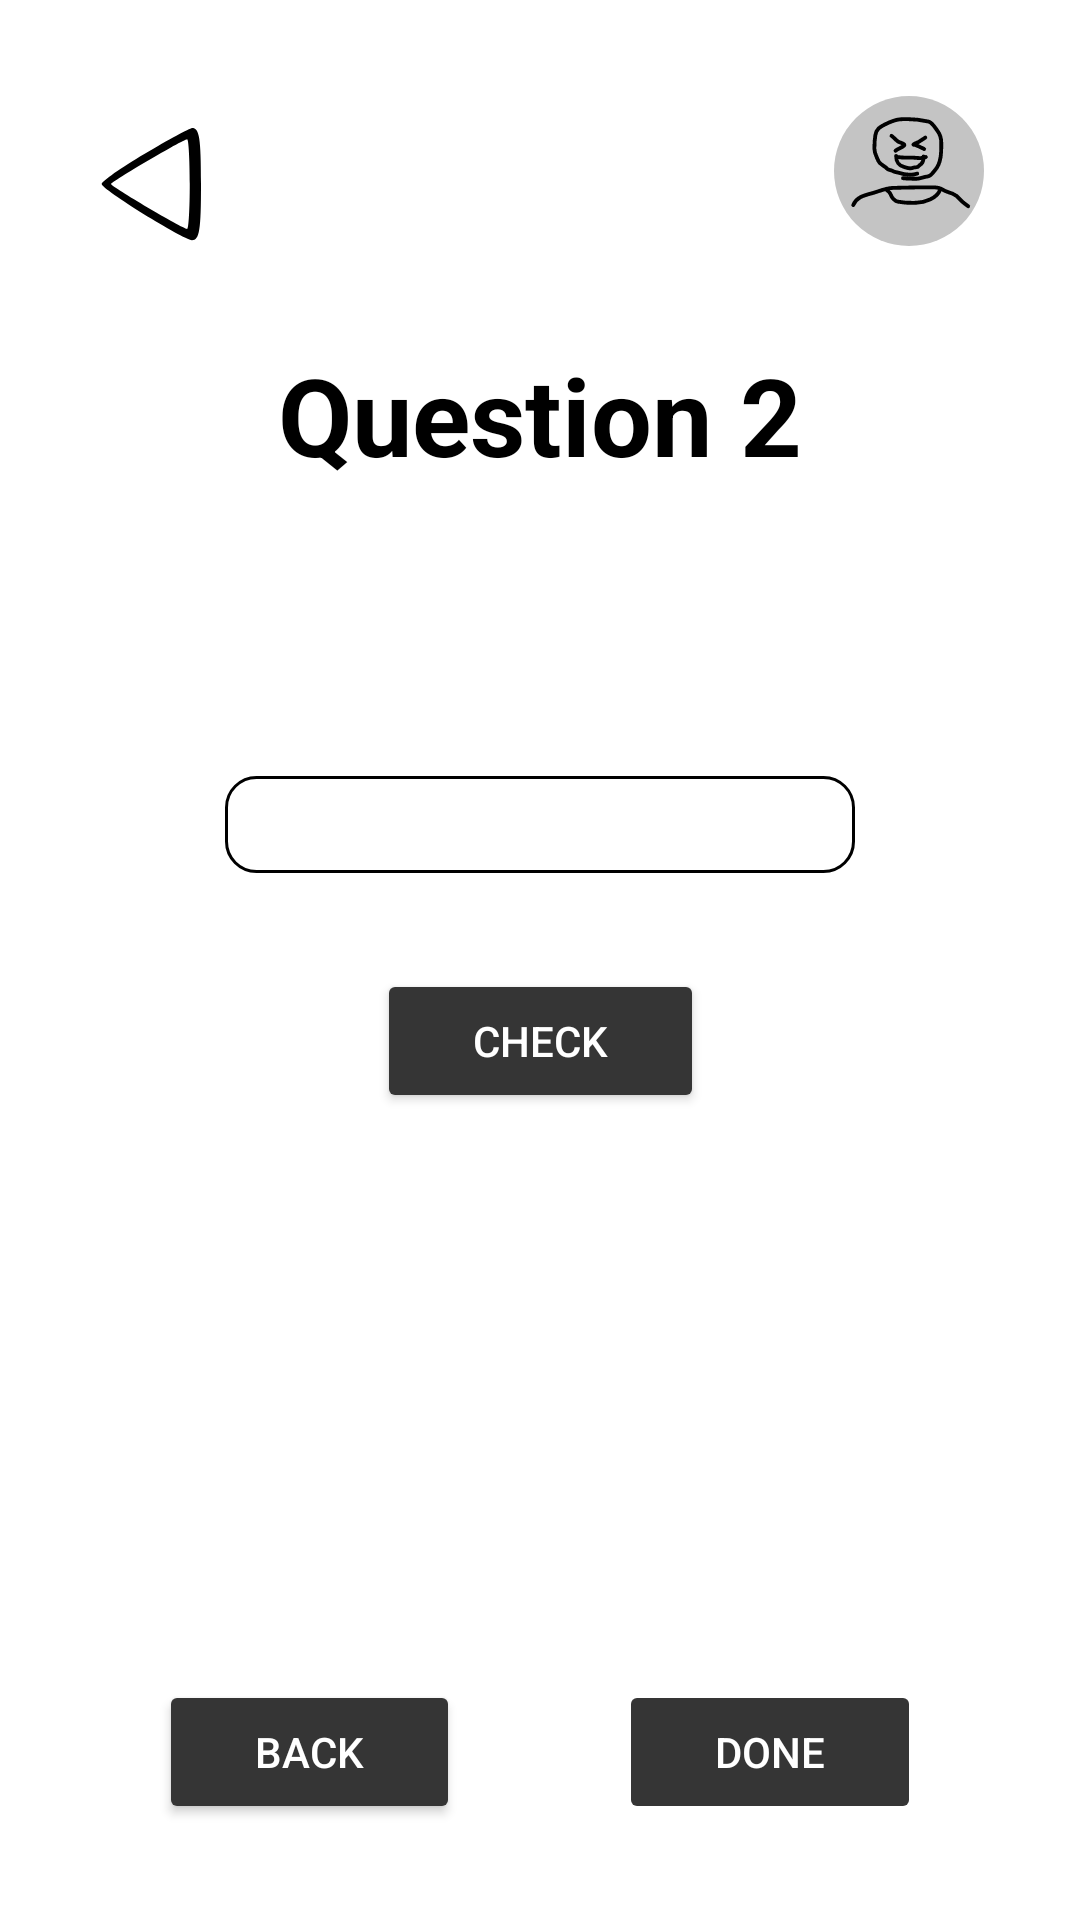

Where to tap for icons on this 1080w x 1920h app screen, as [x,y]:
back: [151,184]
guest: [909,171]
